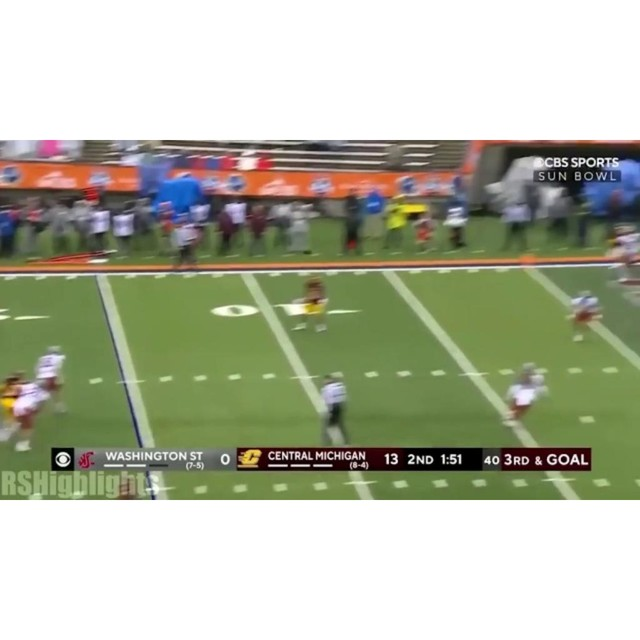american-football-player: (500, 361, 550, 427), (11, 381, 47, 452), (34, 346, 69, 416), (565, 290, 605, 342), (303, 272, 331, 333), (0, 372, 24, 434)
referee: (318, 372, 352, 447)
